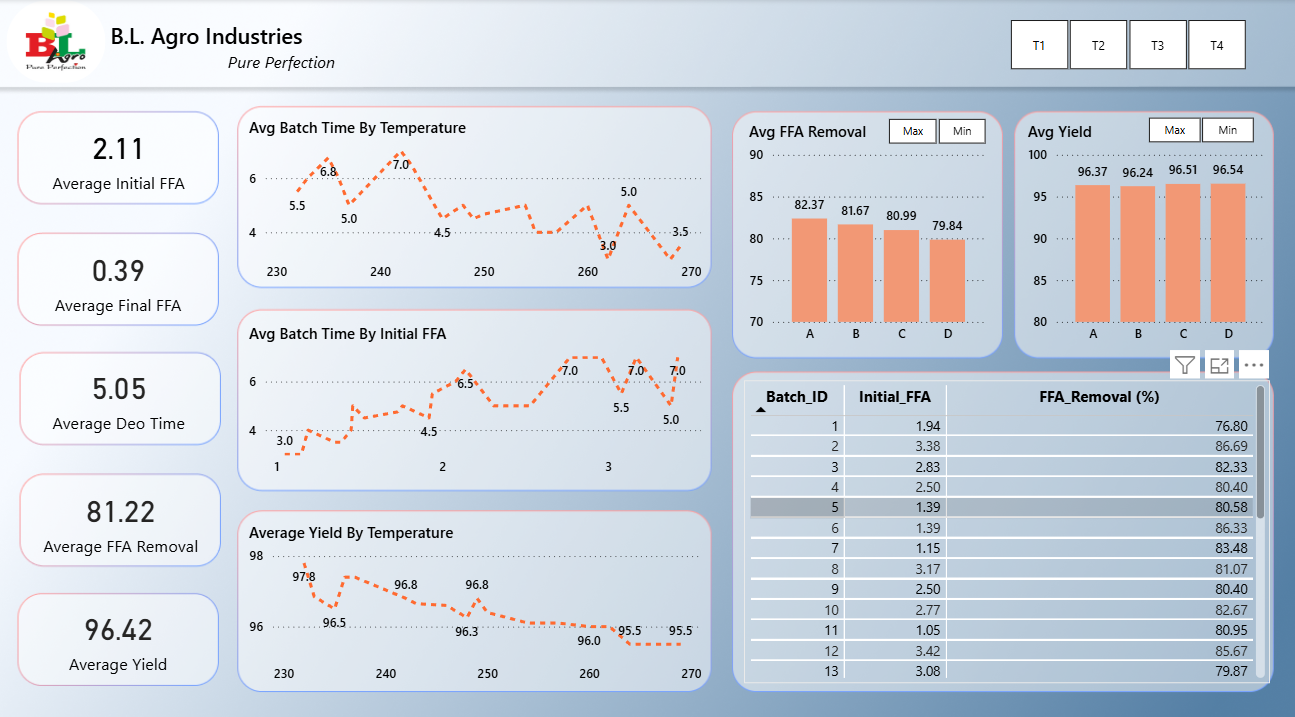

The page's visual inventory and layout, read from the dashboard file:
{"tool":"powerbi","page":{"name":"Page 1","canvas":[1280,720],"ordinal":0},"visuals":[{"type":"image","box":[0,0,1280.3,720.2],"z":0},{"type":"card","title":"Average Initial FFA ","fields":{"Values":["Dataset.Avg Initial FFA"]},"box":[26.9,113.7,190.8,83.2],"z":1000},{"type":"card","fields":{"Values":["Dataset.Avg Deo Time"]},"box":[26.9,348.5,190.8,83.2],"z":2000},{"type":"card","fields":{"Values":["Dataset.Avg. Final FFA"]},"box":[31.8,232.3,179.8,84.4],"z":3000},{"type":"card","fields":{"Values":["Dataset.Avg. Yield"]},"box":[31.8,583.3,179.8,85.6],"z":4000},{"type":"card","fields":{"Values":["Dataset.Avg. FFA Removal"]},"box":[34.2,464.7,179.8,91.7],"z":5000},{"type":"textbox","box":[108.8,15.9,253.1,47.7],"z":6000},{"type":"image","box":[12.2,1.2,96.6,80.7],"z":7000},{"type":"textbox","box":[223.8,45.2,151.6,35.5],"z":8000},{"type":"slicer","fields":{"Values":["Dataset.Temp Range"]},"box":[968.5,13.5,280,62.4],"z":9000},{"type":"lineClusteredColumnComboChart","title":"Avg FFA Removal ","fields":{"Category":["Dataset.Operator"],"Y":["Dataset.Avg. FFA Removal"]},"box":[733.7,118.6,240.9,227.4],"z":10000},{"type":"slicer","fields":{"Values":["Min_Max_Switch Table.Min_Max_Highlight"]},"box":[854.8,114.9,134.5,28.1],"z":11000},{"type":"lineClusteredColumnComboChart","title":"Avg Yield","fields":{"Category":["Dataset.Operator"],"Y":["Dataset.Avg. Yield"]},"box":[1006.4,118.6,242.1,227.4],"z":12000},{"type":"tableEx","fields":{"Values":["Dataset.Batch_ID","Dataset.Initial_FFA ","Dataset.FFA_Removal (%)"]},"box":[733.7,373,514.8,295.9],"z":13000},{"type":"lineChart","title":"Avg Batch Time By Temperature","fields":{"Category":["Dataset.Temperature (°C)"],"Y":["Avg(Dataset.Batch_Time (Hrs))"]},"box":[244.6,114.9,452.4,170],"z":14000},{"type":"lineChart","title":"Average Yield By Temperature","fields":{"Y":["Avg(Dataset.Yield (%))"],"Category":["Dataset.Temperature (°C)"]},"box":[244.6,511.1,452.4,167.5],"z":15000},{"type":"lineChart","title":"Avg Batch Time By Initial FFA","fields":{"Y":["Avg(Dataset.Batch_Time (Hrs))"],"Category":["Dataset.Initial_FFA "]},"box":[244.6,316.7,452.4,159],"z":16000},{"type":"slicer","fields":{"Values":["Min_Max_Switch Table.Min_Max_Highlight"]},"box":[1109.1,113.7,141.8,28.1],"z":17000}]}

Visuals, with their boxes in screenshot pixels (x1, y1, x2, y2), scaled from the page's 1280x720 canvas onto the 1295x717 screenshot:
image: crop(0, 0, 1294, 716)
"Average Initial FFA " card: crop(27, 113, 220, 196)
card - Dataset.Avg Deo Time: crop(27, 347, 220, 430)
card - Dataset.Avg. Final FFA: crop(32, 231, 214, 315)
card - Dataset.Avg. Yield: crop(32, 581, 214, 666)
card - Dataset.Avg. FFA Removal: crop(35, 463, 217, 554)
textbox: crop(110, 16, 366, 63)
image: crop(12, 1, 110, 82)
textbox: crop(226, 45, 380, 80)
slicer - Dataset.Temp Range: crop(980, 13, 1263, 76)
"Avg FFA Removal " lineClusteredColumnComboChart: crop(742, 118, 986, 345)
slicer - Min_Max_Switch Table.Min_Max_Highlight: crop(865, 114, 1001, 142)
"Avg Yield" lineClusteredColumnComboChart: crop(1018, 118, 1263, 345)
tableEx - Dataset.Batch_ID x Dataset.Initial_FFA : crop(742, 371, 1263, 666)
"Avg Batch Time By Temperature" lineChart: crop(247, 114, 705, 284)
"Average Yield By Temperature" lineChart: crop(247, 509, 705, 676)
"Avg Batch Time By Initial FFA" lineChart: crop(247, 315, 705, 474)
slicer - Min_Max_Switch Table.Min_Max_Highlight: crop(1122, 113, 1266, 141)
